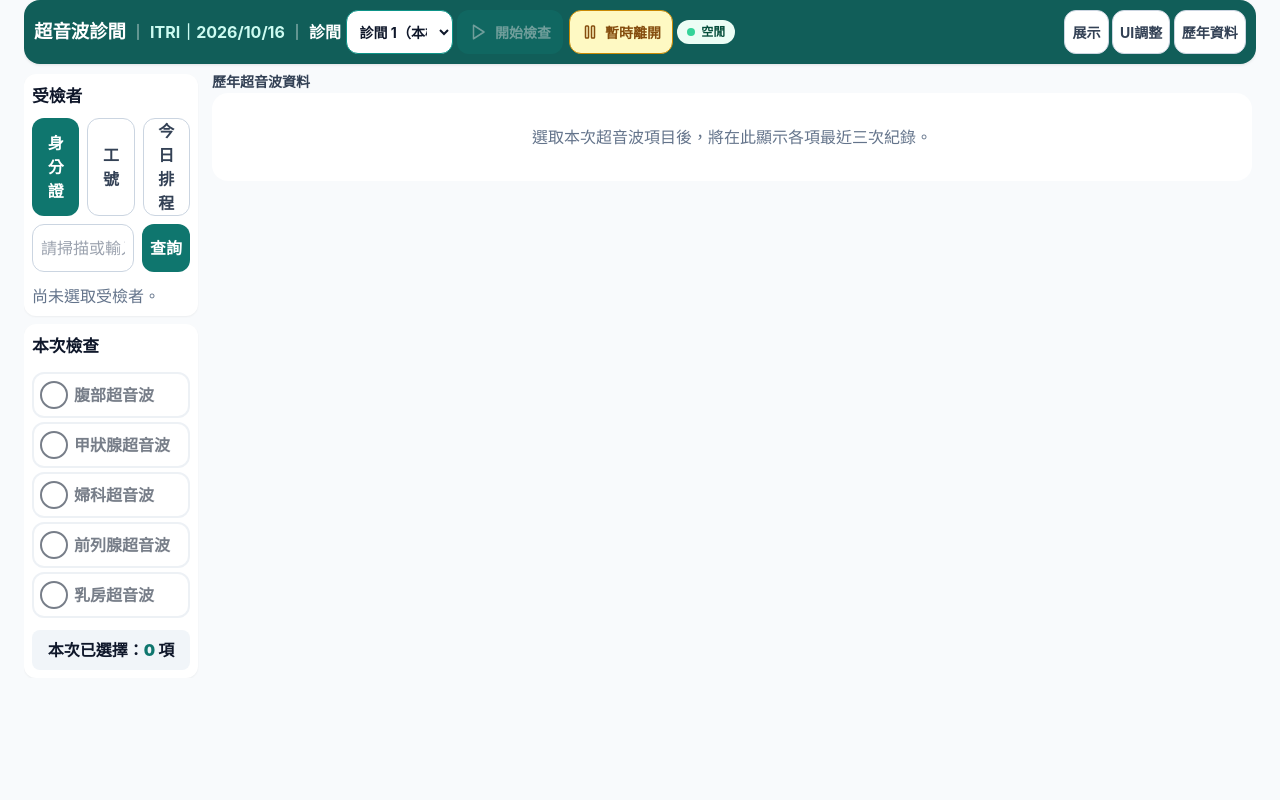
it: 診間選擇今日受檢者共用正式候檢順位 › 尚未載入順位仍保留全部選項，只停用waiting並guard程式觸發選擇
Click the button "今日排程" at (166, 167), box [143,118,190,216]
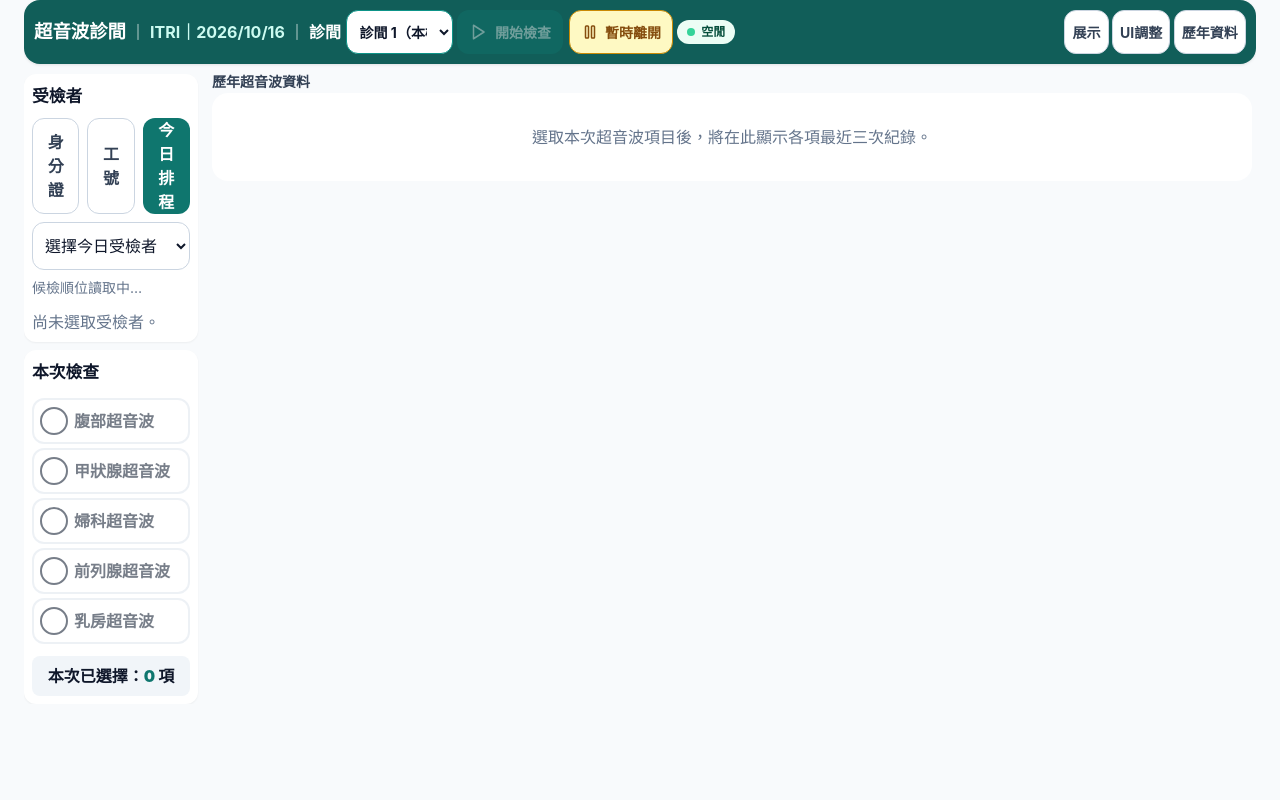
Result: the dropdown named "今日受檢者" is enabled
Result: the text "候檢順位讀取中" is shown at [32,279,142,296]
Select "A1 完整姓名A（00A）・順位未確認" in the dropdown named "今日受檢者" at (111, 246), box [32,222,190,270]
Select "A1 完整姓名called（00called）" in the dropdown named "今日受檢者" at (111, 246), box [32,222,190,270]
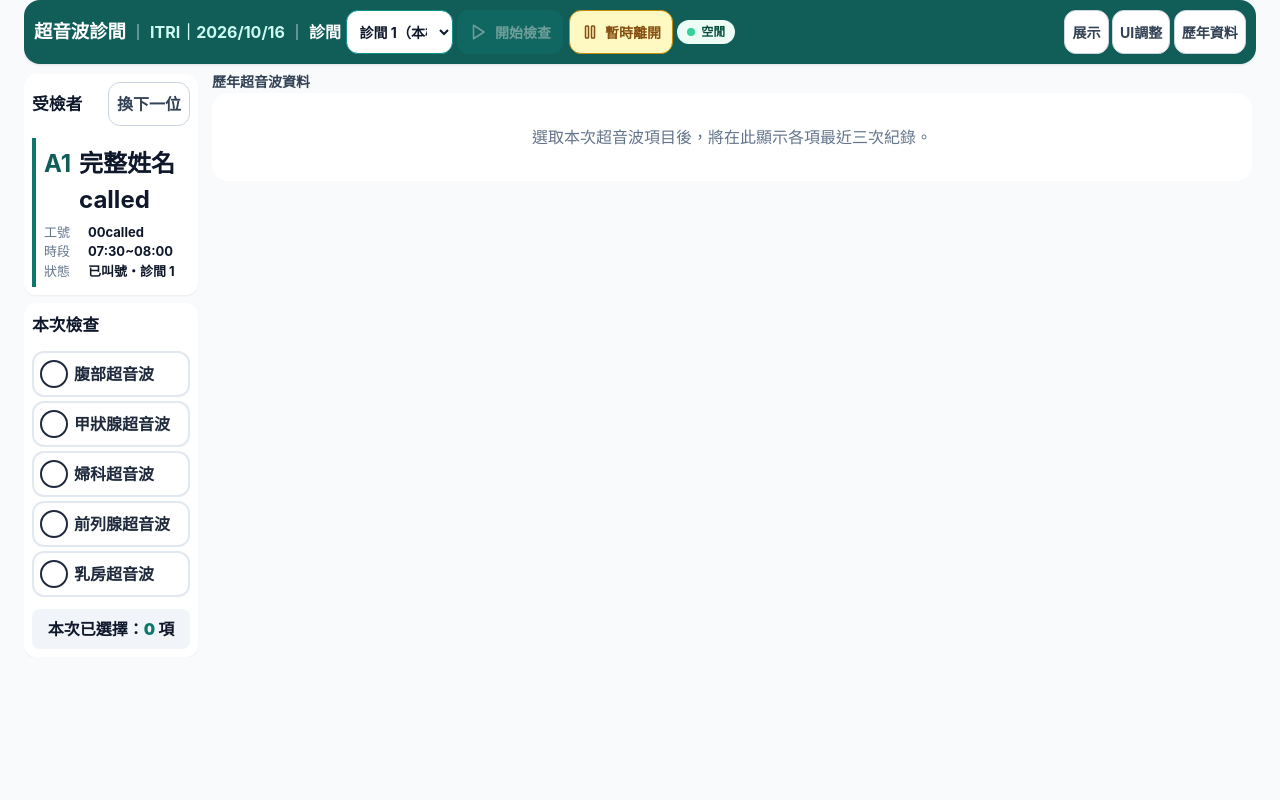
Result: the text with class "room-patient-name" reads "完整姓名called" at [79,149,175,214]
